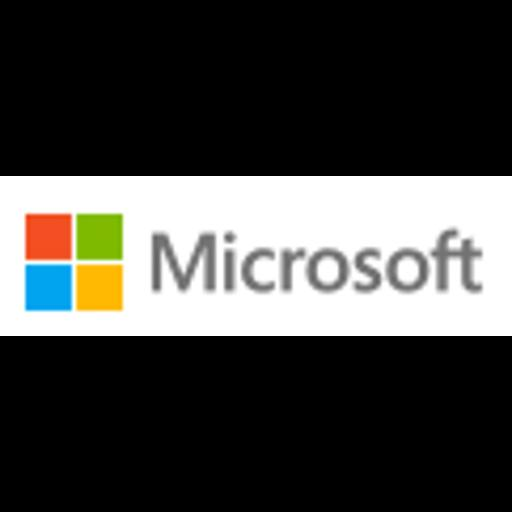Outlook: (0, 176, 512, 336)
